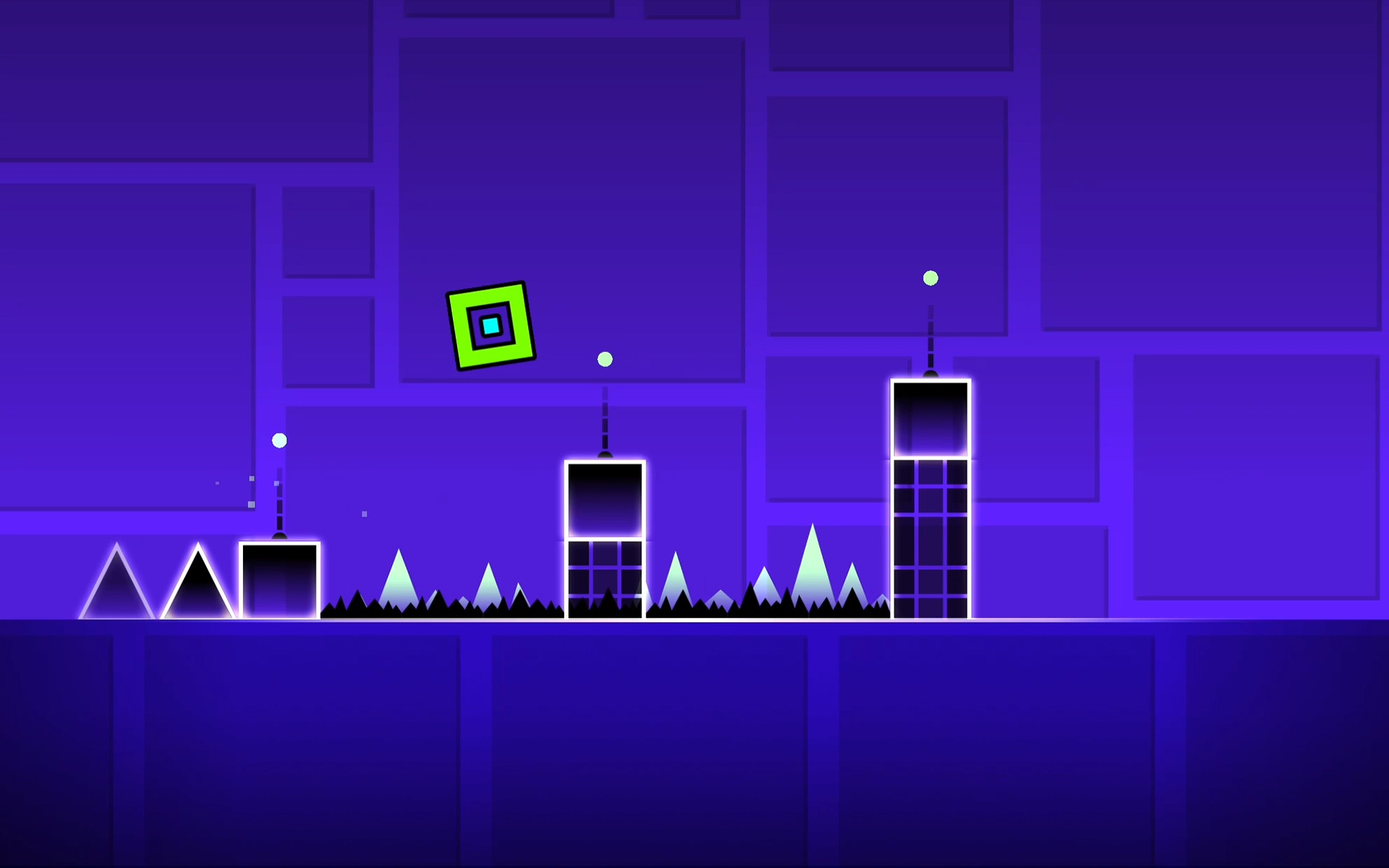Block: (236, 538, 323, 617), (566, 458, 645, 537), (891, 378, 970, 456)
Block2: (891, 459, 970, 619), (566, 538, 645, 618)
Player: (448, 281, 534, 370)
Spike: (78, 543, 154, 617), (160, 543, 235, 617)
Spike3: (650, 588, 888, 620), (321, 593, 564, 620)
